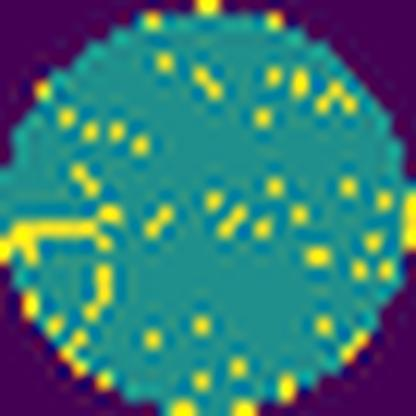Scratch: (0, 204, 123, 273)
